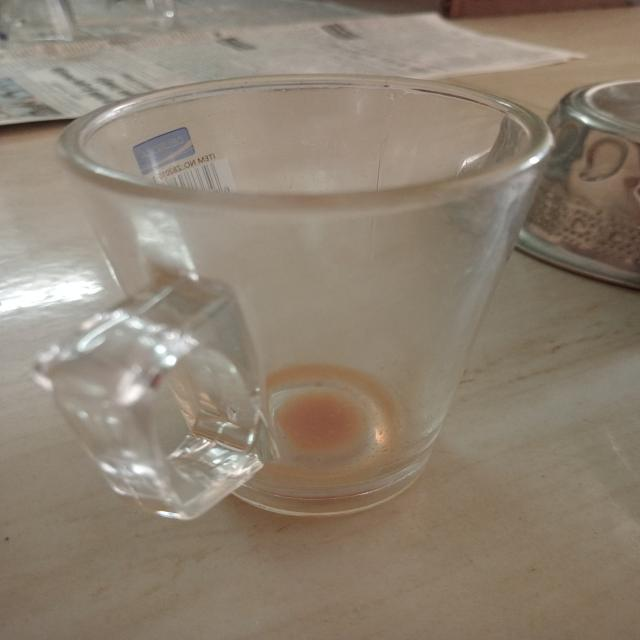glass-VX4N: (32, 68, 557, 500)
